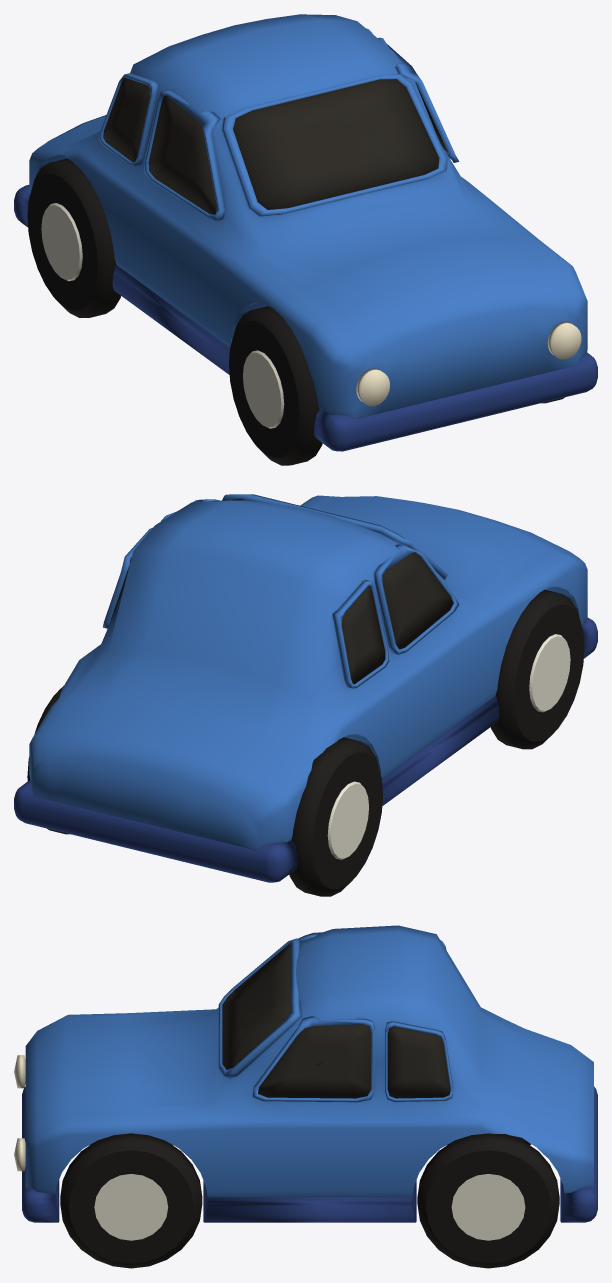
File: car-sedan.fbx
3 renders of one model, top to bottom at view 1: azimuth 30°, elevation 25°; view 2: azimuth 150°, elevation 25°; view 3: azimuth 270°, elevation 25°, orthographic. The views are drawn at different scales.
Visible parts, largest first — view 1: car-sedan; view 2: car-sedan; view 3: car-sedan.
Boxes of the visible parts, x1,y1,x2,y2 form: car-sedan: [14, 14, 597, 465]; car-sedan: [14, 494, 597, 896]; car-sedan: [14, 925, 597, 1268].
Size of the model in its own units: 782 by 742 by 1550.
Materials: 1 (1 with a texture image).
